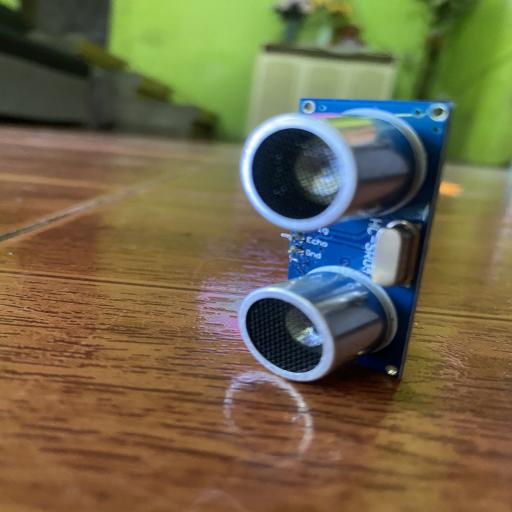Ultrasonic Sensor: (234, 94, 456, 384)
